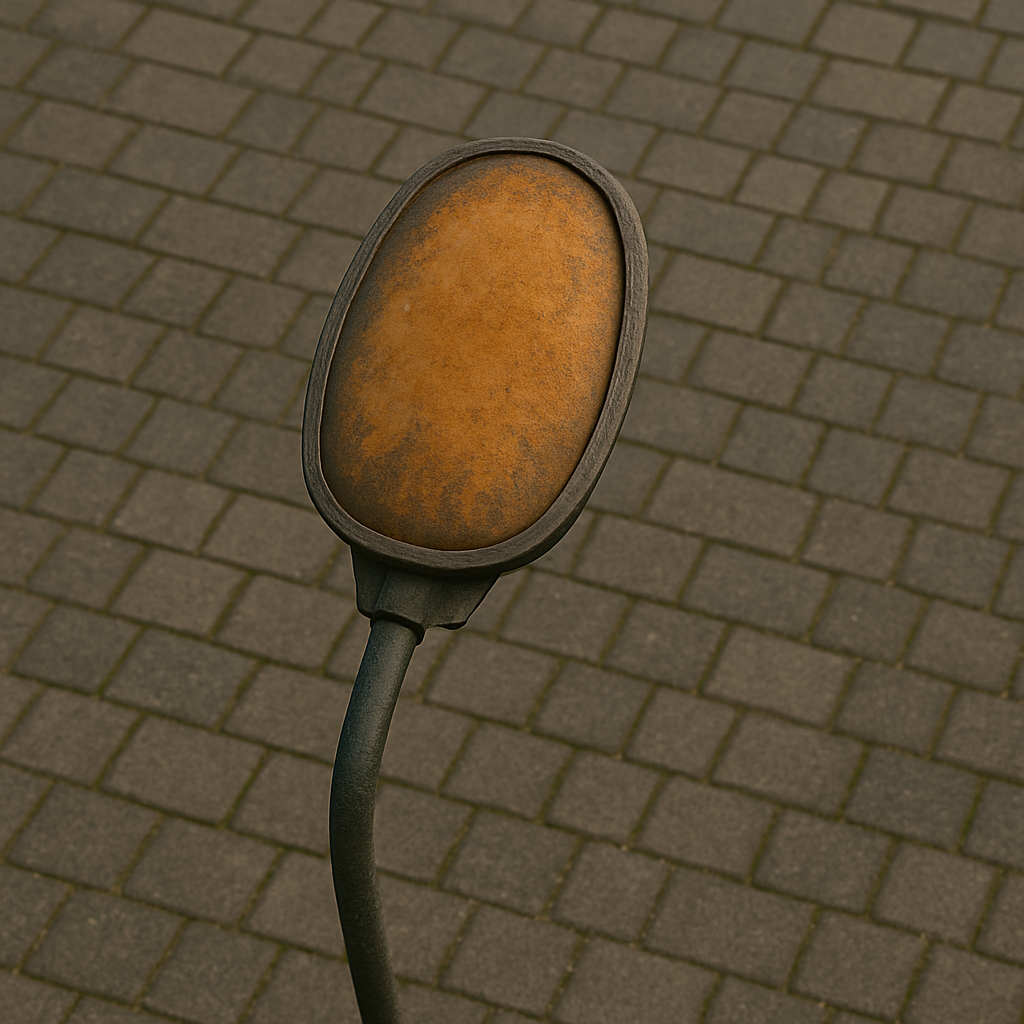Top_Street_Light: (281, 128, 670, 588)
